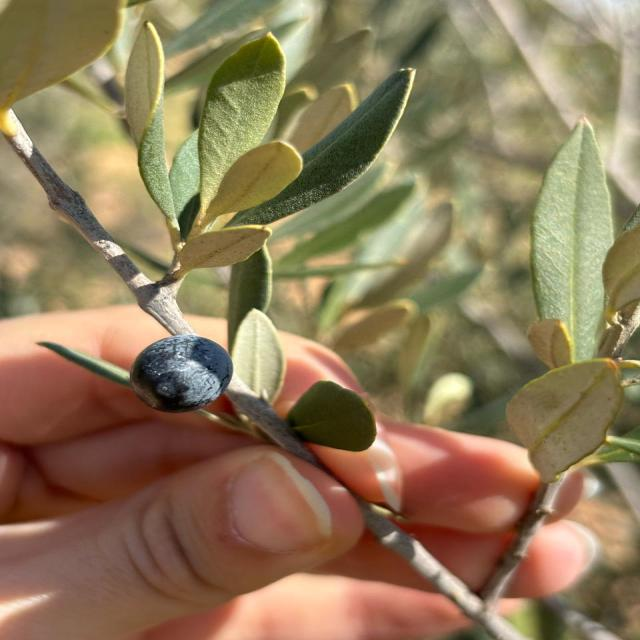Healthy: (531, 121, 614, 361), (125, 334, 233, 413), (201, 140, 301, 222), (285, 380, 377, 454)
